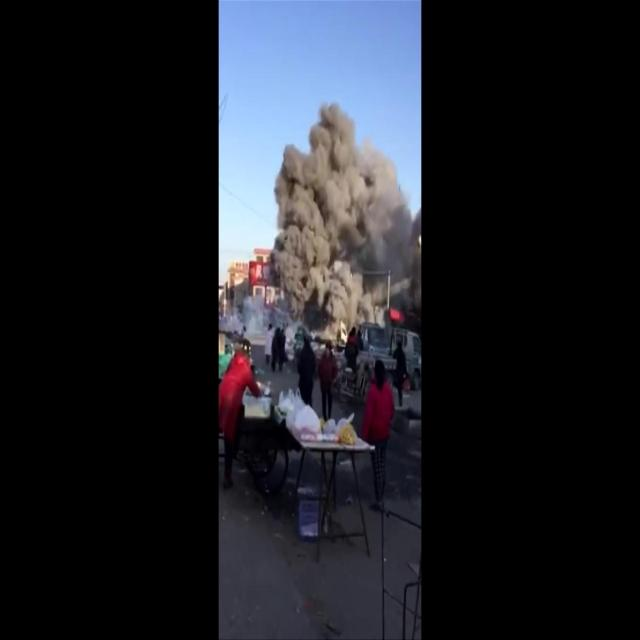smoke: (264, 99, 424, 342)
